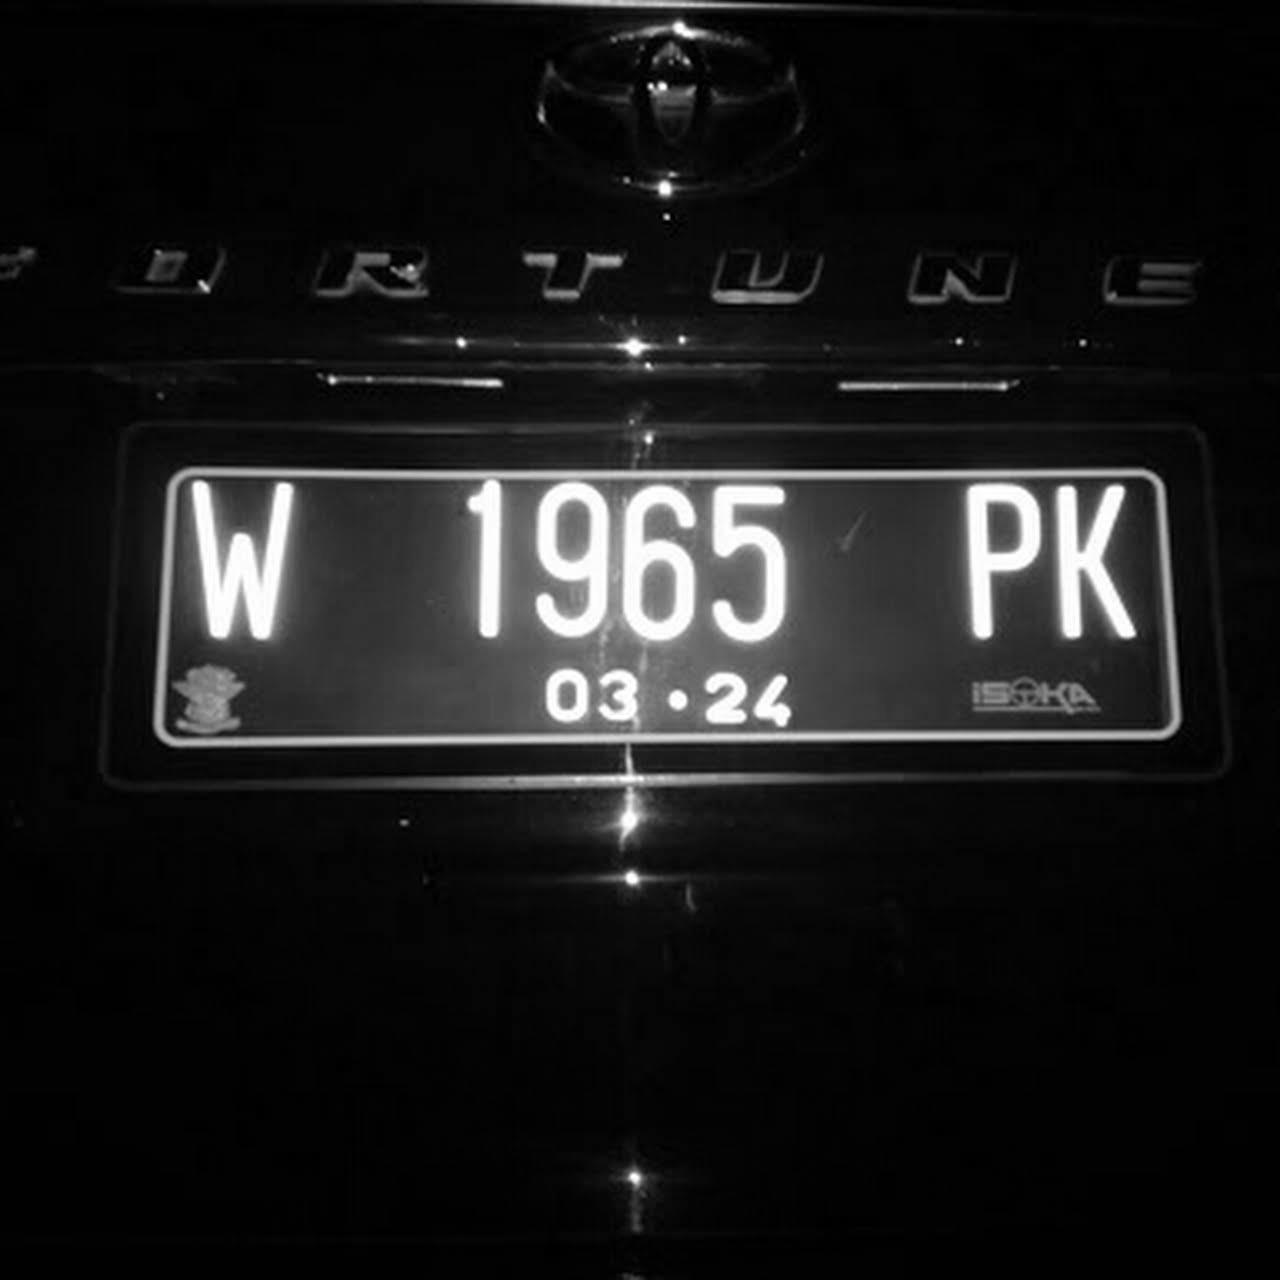1: (459, 478, 517, 656)
5: (701, 476, 799, 666)
6: (617, 478, 701, 663)
9: (522, 478, 617, 654)
K: (1046, 481, 1149, 656)
P: (955, 481, 1044, 656)
W: (183, 468, 306, 663)
